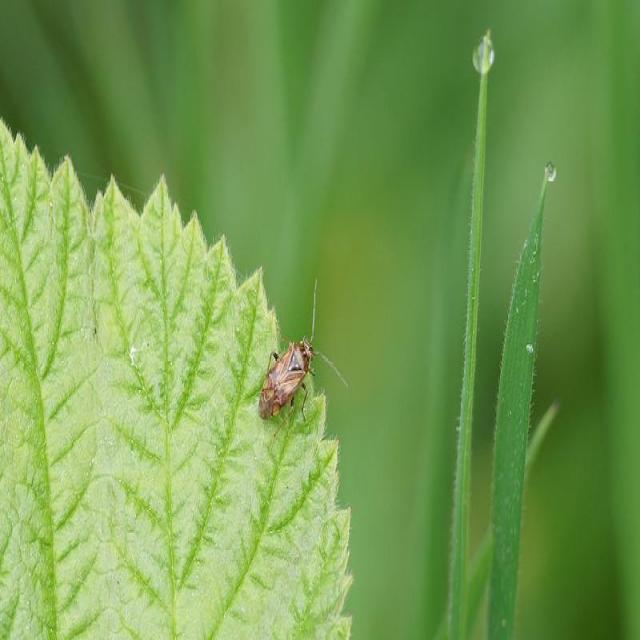Miridae-Adult-: (254, 266, 355, 456)
